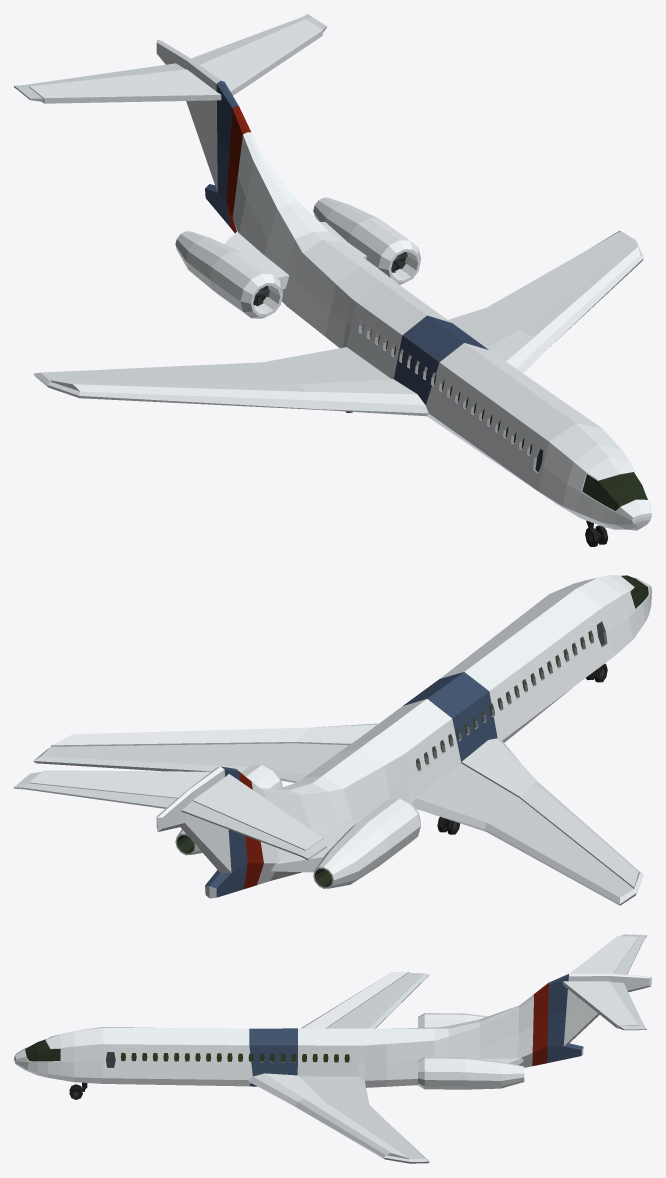
File: ComPlaneV1.glb
The picture shows the model from 3 angles, top to bottom: view 1: azimuth 30°, elevation 25°; view 2: azimuth 150°, elevation 25°; view 3: azimuth 270°, elevation 25°; orthographic projection. The views are drawn at different scales.
Parts seen in each view (by area): view 1: ComPlaneV1; view 2: ComPlaneV1; view 3: ComPlaneV1.
Part boxes in pixels (left/top/right/bottom): ComPlaneV1: left=14, top=14, right=651, bottom=530; ComPlaneV1: left=14, top=575, right=651, bottom=905; ComPlaneV1: left=14, top=934, right=651, bottom=1163.
Size of the model in its own units: 2.2 by 0.6784 by 3.15.
Materials: 1 (1 with a texture image).
